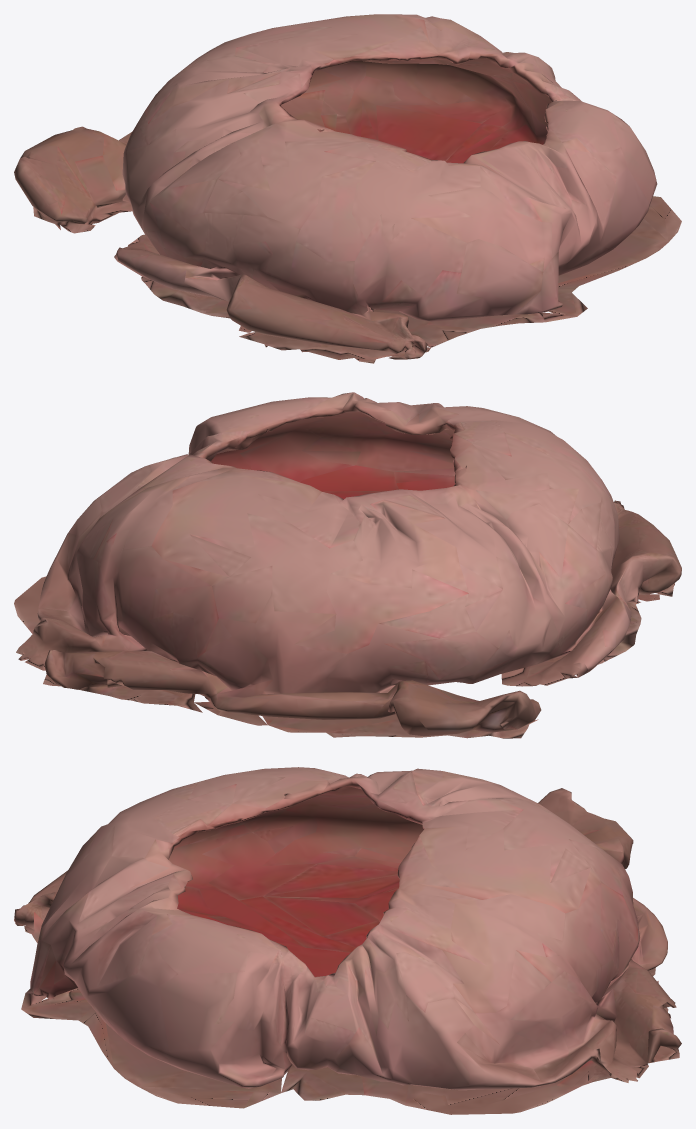
The model's file is bladder.glb.
3 renders of one model, top to bottom at view 1: azimuth 30°, elevation 25°; view 2: azimuth 150°, elevation 25°; view 3: azimuth 270°, elevation 25°, orthographic. The views are drawn at different scales.
Visible parts, largest first — view 1: Mesh_0; view 2: Mesh_0; view 3: Mesh_0.
Boxes of the visible parts, x1=… form: Mesh_0: x1=14, y1=14, x2=681, y2=363; Mesh_0: x1=14, y1=392, x2=681, y2=738; Mesh_0: x1=14, y1=767, x2=681, y2=1114.
Bounding box in the file's own units: 1.81 × 0.4788 × 1.86.
Materials: 1 (1 with a texture image).
